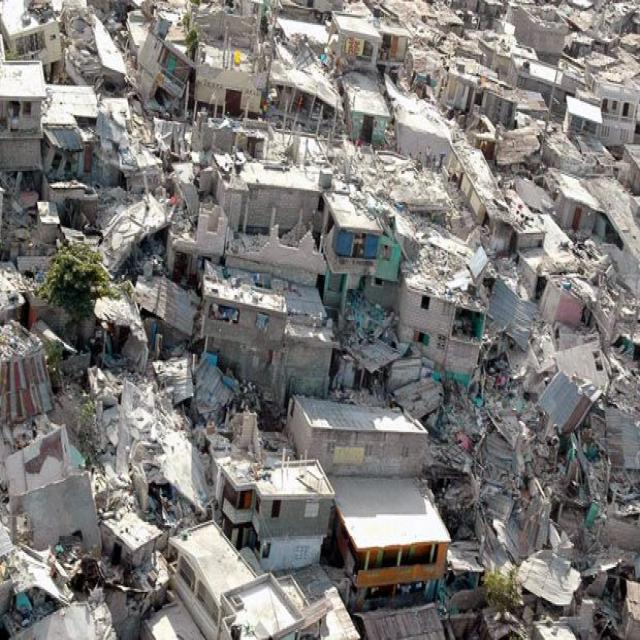collapsed_building: (490, 210, 639, 544), (197, 151, 322, 416), (406, 219, 485, 421), (92, 374, 204, 514), (323, 198, 396, 406), (2, 443, 103, 584), (97, 106, 174, 267), (374, 22, 444, 158), (89, 280, 193, 365), (41, 115, 96, 262), (0, 61, 38, 260), (63, 0, 128, 96), (270, 47, 336, 138), (138, 6, 187, 117)
